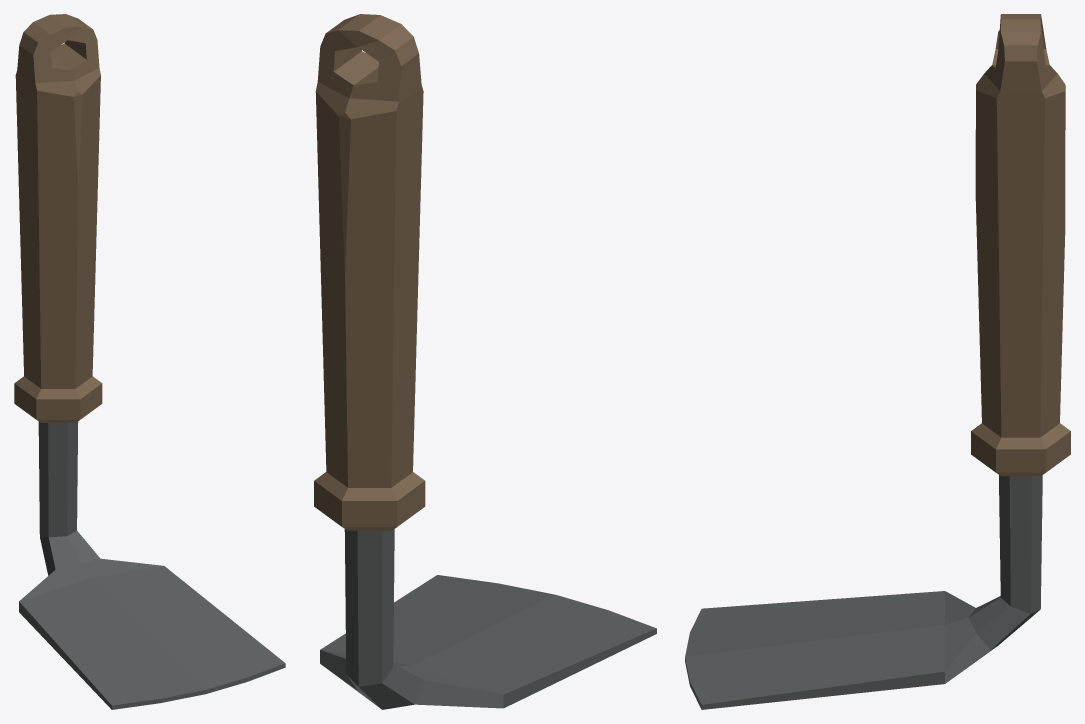
The model's file is SM_Props_Farm_Tool_HandSpade.fbx.
3 views of the same model, side by side, from view 1: azimuth 30°, elevation 25°; view 2: azimuth 150°, elevation 25°; view 3: azimuth 270°, elevation 25° (orthographic). The views are drawn at different scales.
Parts seen in each view (by area): view 1: SM_Props_Farm_Tool_HandSpade; view 2: SM_Props_Farm_Tool_HandSpade; view 3: SM_Props_Farm_Tool_HandSpade.
Boxes of the visible parts, <box> form: SM_Props_Farm_Tool_HandSpade: <box>14,14,285,709</box>; SM_Props_Farm_Tool_HandSpade: <box>314,14,656,709</box>; SM_Props_Farm_Tool_HandSpade: <box>685,14,1070,709</box>.
Bounding box in the file's own units: 14.35 × 44.62 × 24.29.
